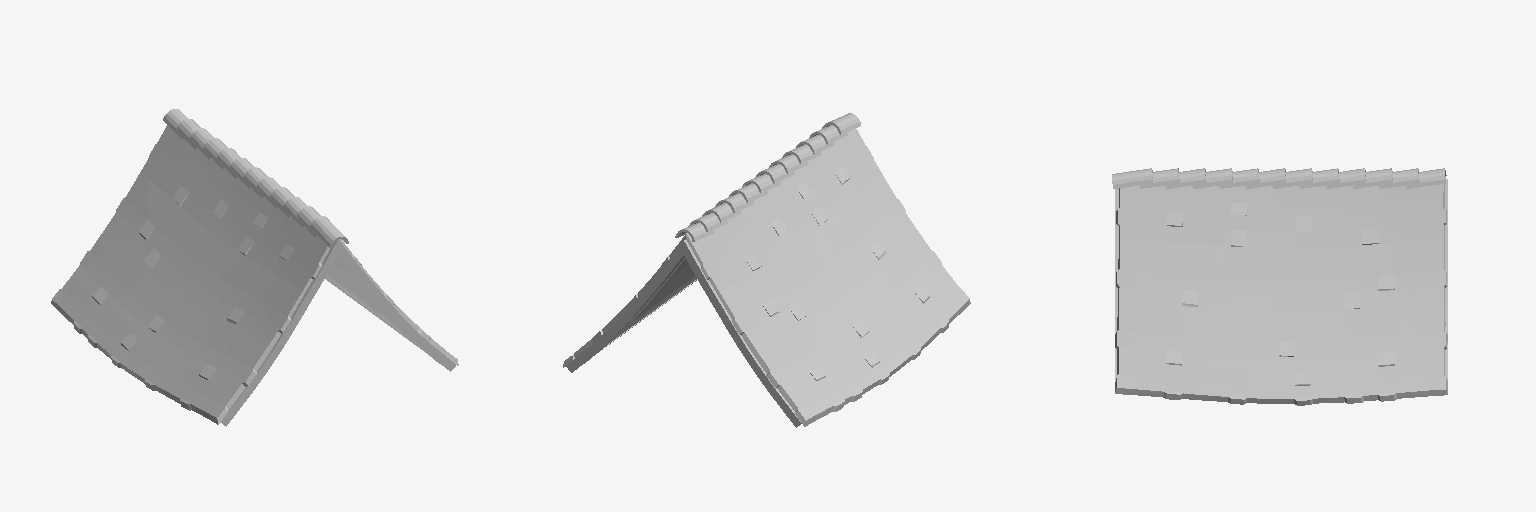
File: Roof_FlatTiles_6x8.obj
The picture shows the model from 3 angles: view 1: azimuth 30°, elevation 25°; view 2: azimuth 150°, elevation 25°; view 3: azimuth 270°, elevation 25°; orthographic projection.
Parts seen in each view (by area): view 1: Roof_FlatTiles_6x8; view 2: Roof_FlatTiles_6x8; view 3: Roof_FlatTiles_6x8.
Boxes of the visible parts, x1=… form: Roof_FlatTiles_6x8: x1=51, y1=109, x2=458, y2=426; Roof_FlatTiles_6x8: x1=563, y1=113, x2=970, y2=427; Roof_FlatTiles_6x8: x1=1112, y1=168, x2=1447, y2=405.
Bounding box in the file's own units: 8.72 × 5.56 × 9.78.